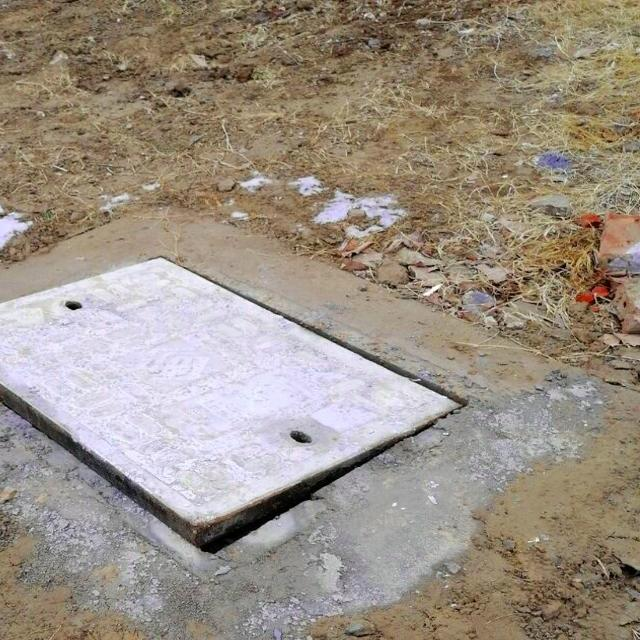uncovered: (0, 250, 496, 577)
